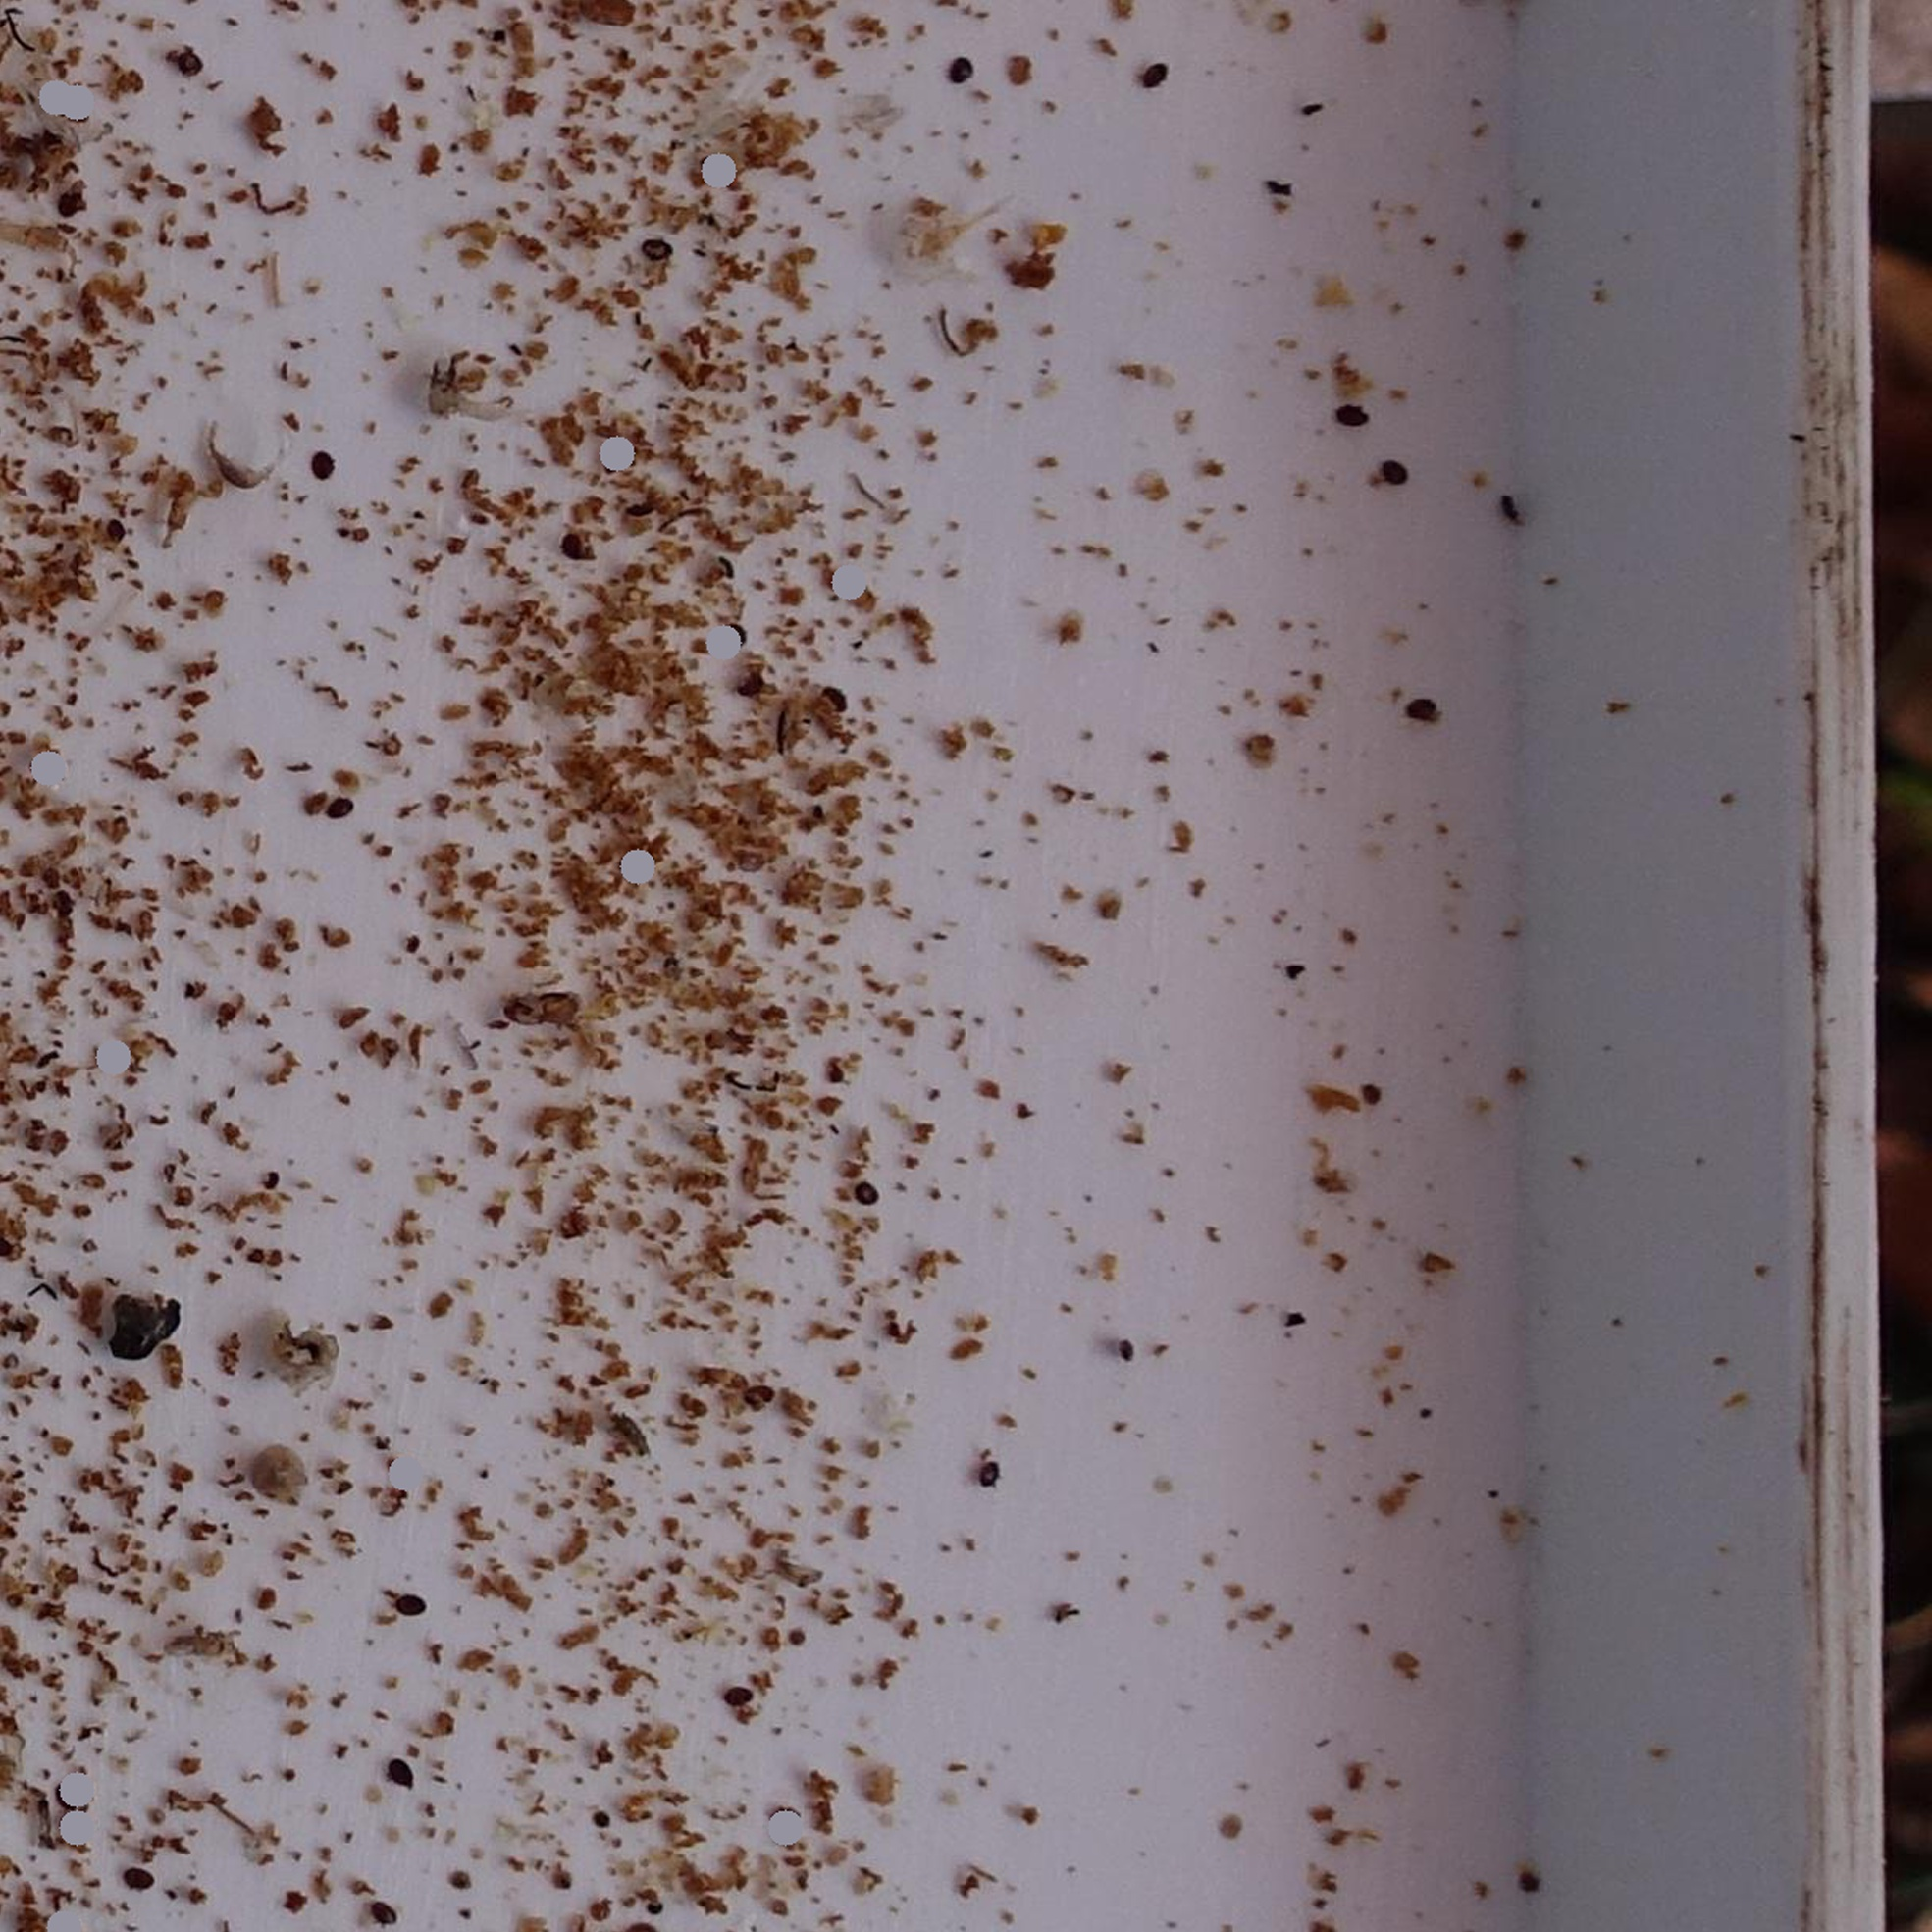Varroa: (968, 1453, 1012, 1497), (616, 487, 660, 529), (173, 48, 203, 80), (554, 533, 584, 561), (842, 1180, 872, 1208), (1408, 692, 1438, 720), (817, 688, 847, 717), (736, 669, 763, 699), (644, 237, 671, 267), (304, 451, 331, 479), (947, 51, 973, 80), (1336, 403, 1364, 430), (398, 1585, 425, 1612), (101, 515, 127, 541), (126, 1865, 150, 1893), (764, 1796, 789, 1824), (51, 1798, 80, 1822), (1138, 64, 1162, 92), (720, 1683, 745, 1709), (370, 1900, 389, 1928), (1389, 460, 1408, 483), (58, 188, 78, 209), (389, 1760, 409, 1778), (324, 801, 340, 823), (750, 1387, 768, 1401), (731, 628, 743, 646), (623, 869, 640, 879)
